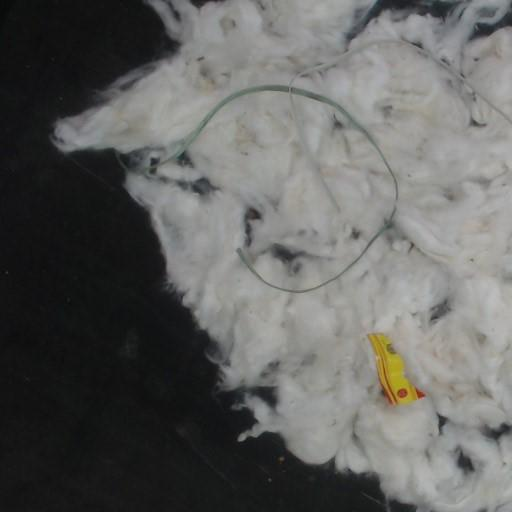cotton: (53, 0, 511, 509)
packet: (368, 334, 424, 403)
thread: (146, 49, 398, 293)
